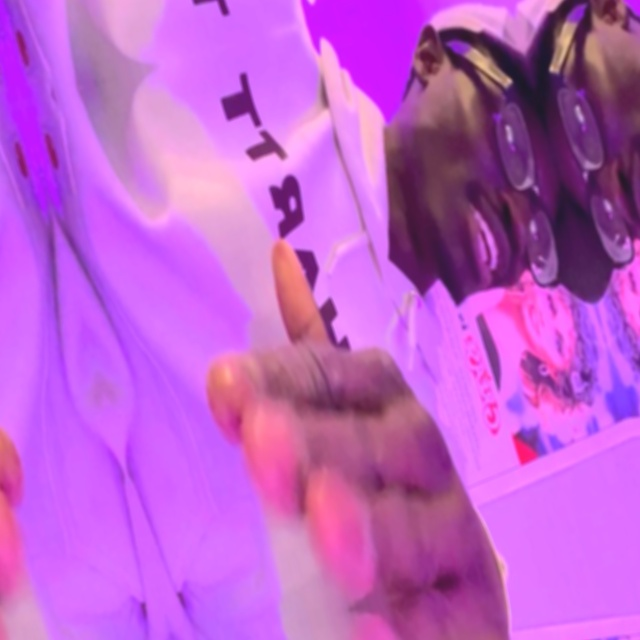Paper: (168, 207, 500, 633)
